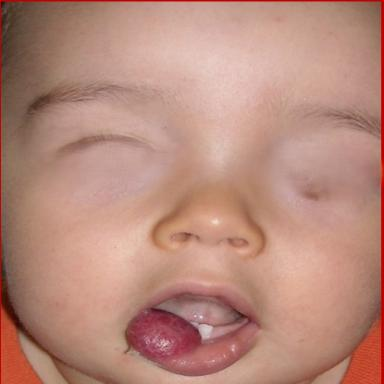Hemangiome: (126, 309, 201, 360)
